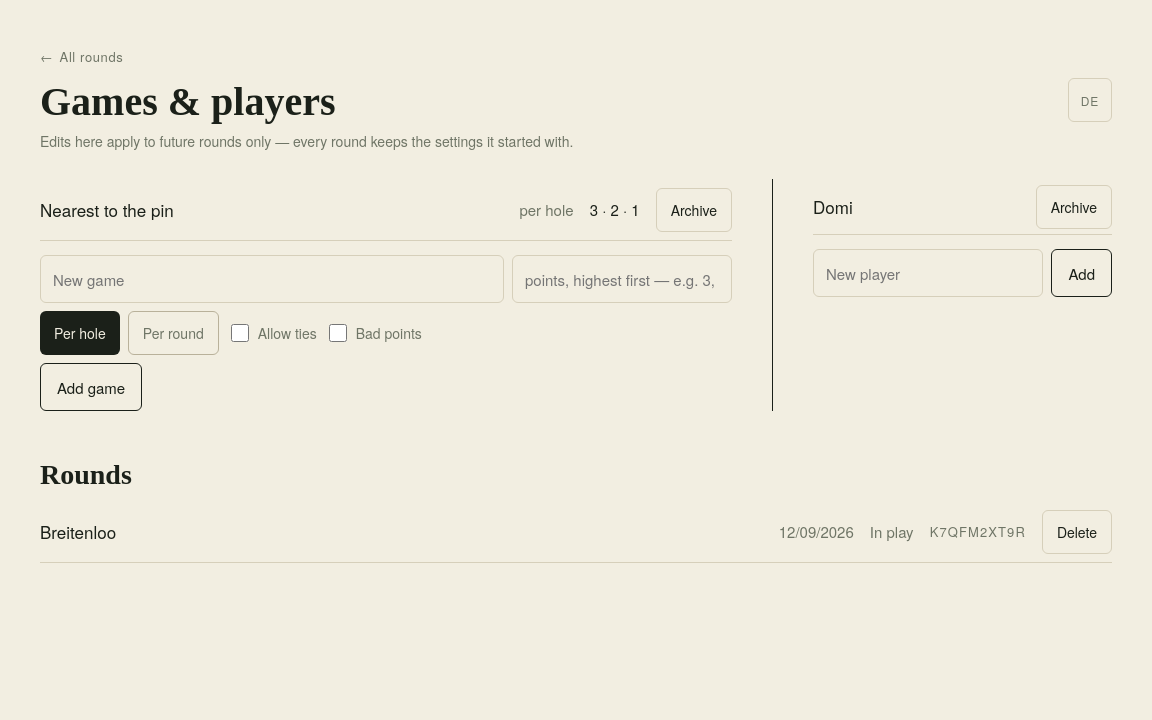
Test case: AdminPanel › surfaces a rejected create instead of silently clearing the form
Expected: the text "Nearest to the pin" is shown, [40,197,174,222]
In the field named "game name": point(272, 279) [40,255,504,303], type "Banana hat"
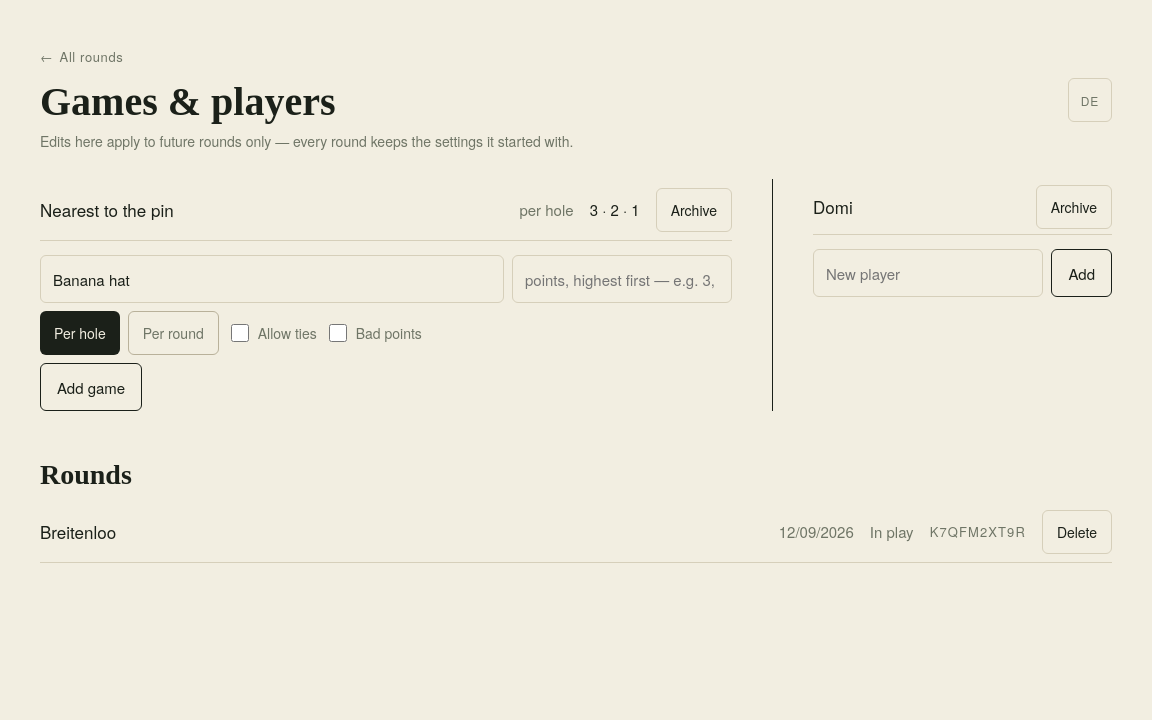
In the field labelled "points, highest first — e.g. 3, 2, 1": point(622, 279) [512,255,732,303], type "1"
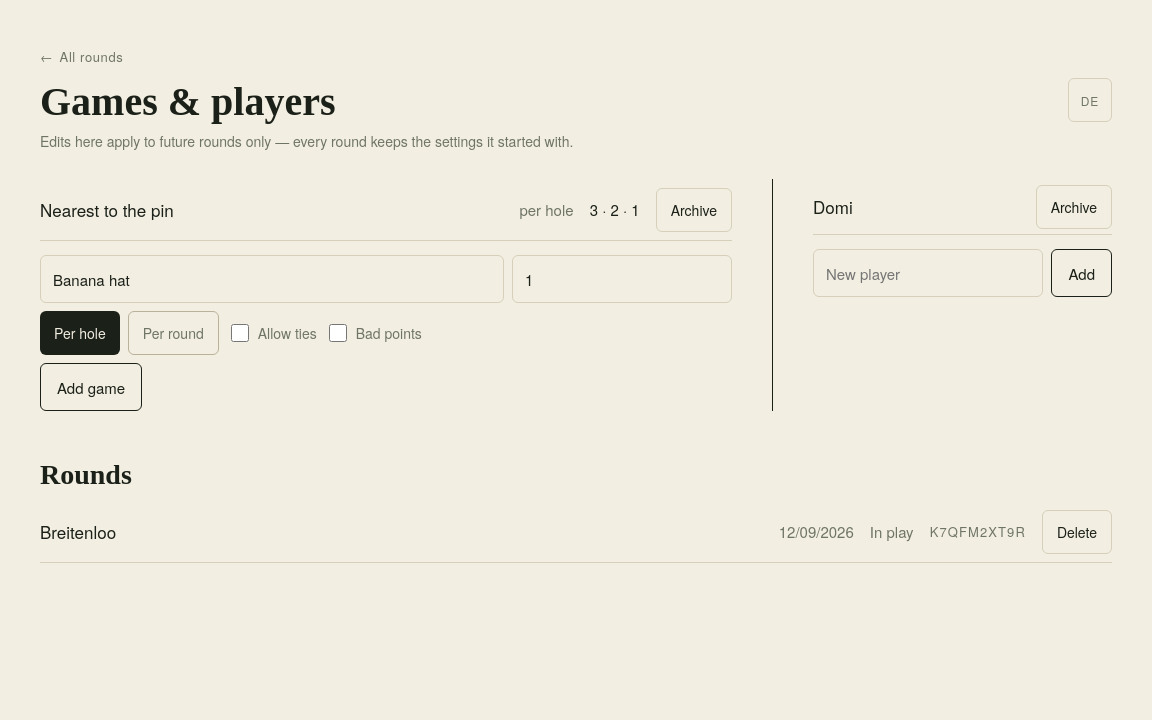
Click the checkbox labelled "Bad points": point(338, 333) [329,324,347,342]
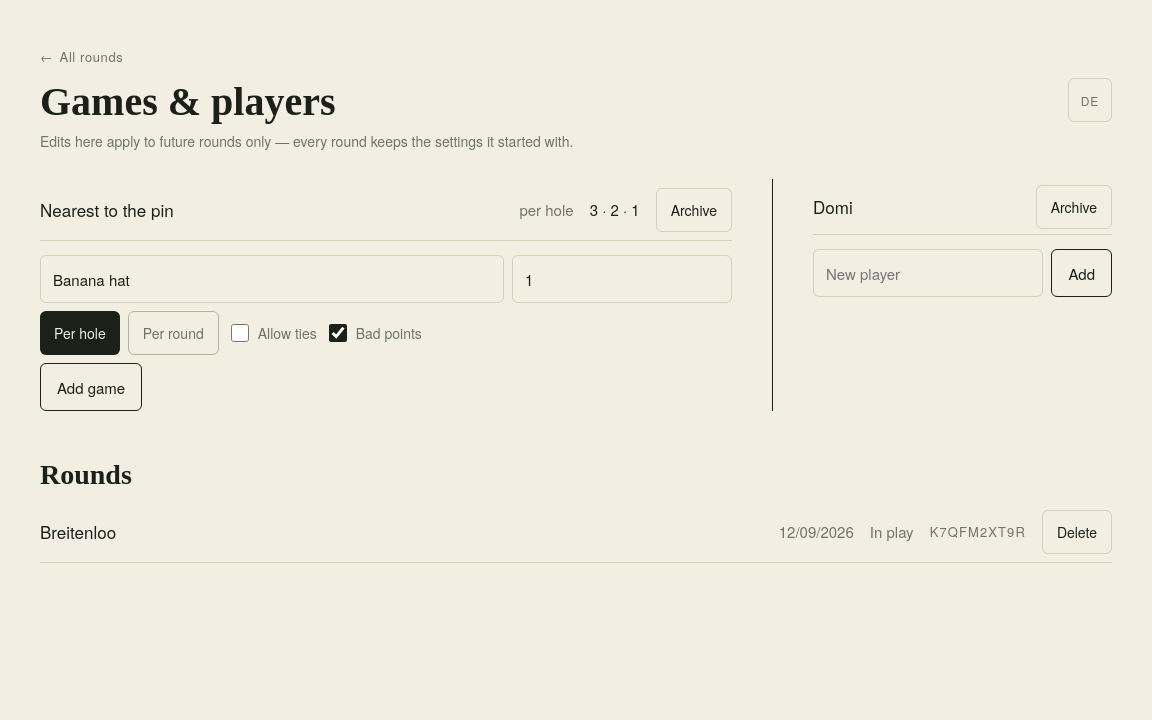
Click the button "Add game": point(91, 387) [40,363,142,411]
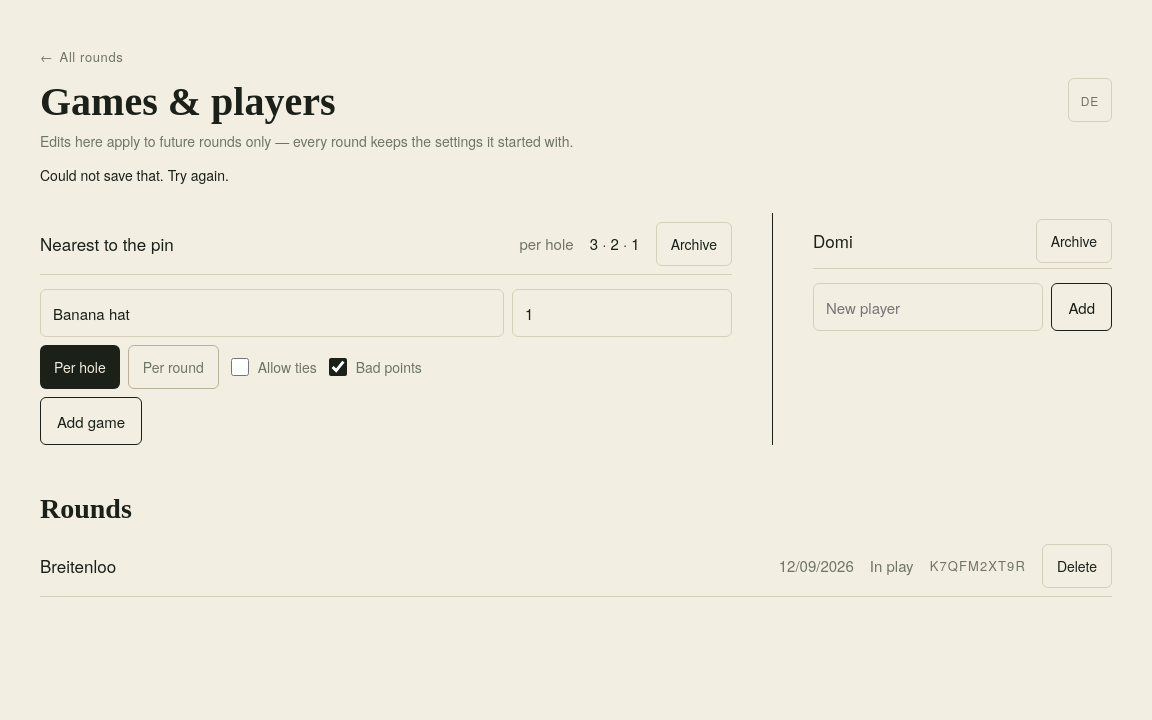
Expected: the checkbox labelled "Bad points" is checked, [329,358,347,376]
Expected: the message "Could not save that. Try again." is shown, [40,165,229,185]
